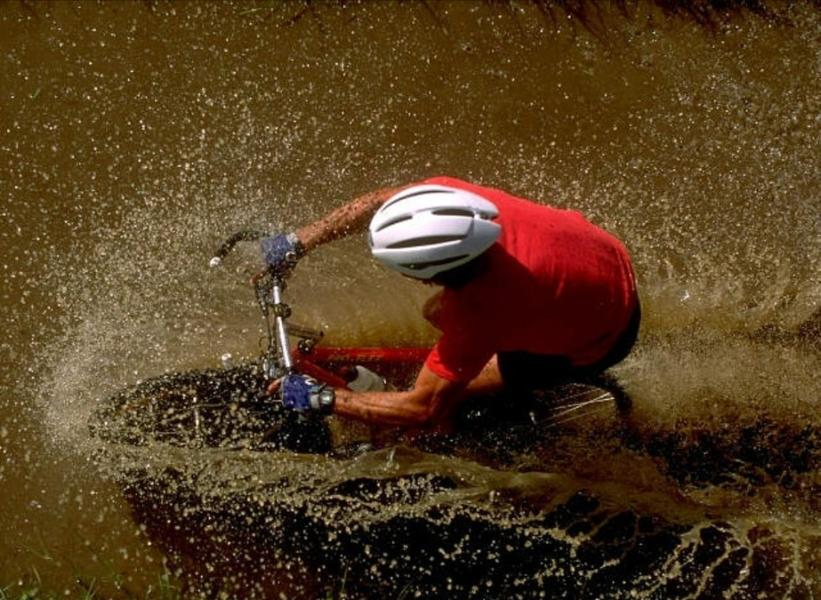person: (264, 177, 641, 429)
